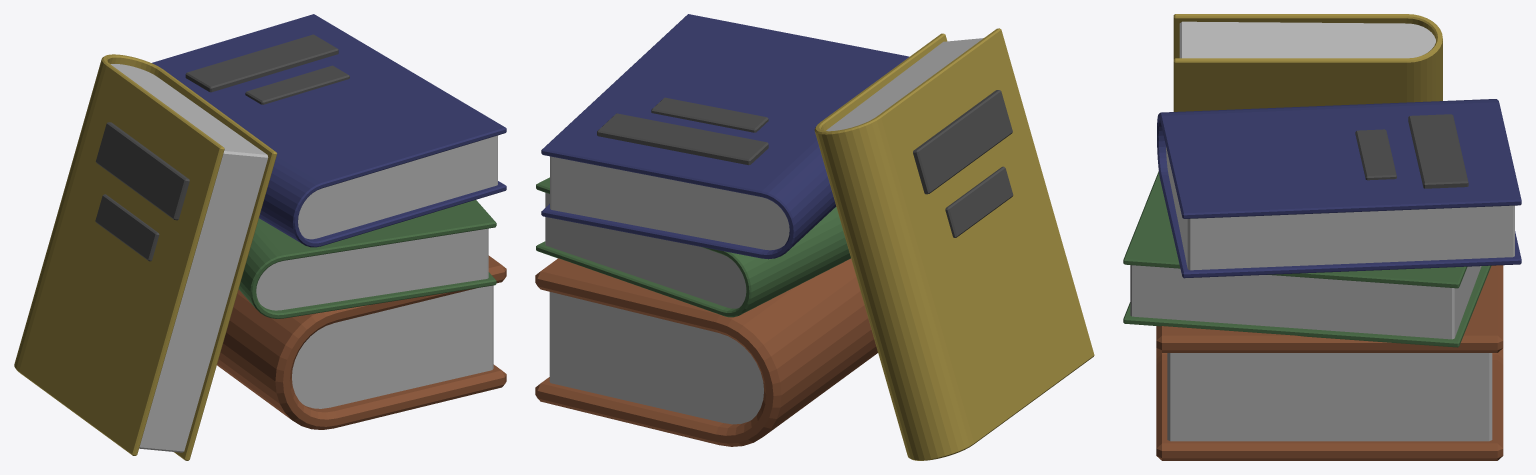
Rendered from BooksMod.glb.
3 views of the same model, side by side, from view 1: azimuth 30°, elevation 25°; view 2: azimuth 150°, elevation 25°; view 3: azimuth 270°, elevation 25° (orthographic). The views are drawn at different scales.
Parts seen in each view (by area): view 1: Cylinder.003, Cylinder.002, Cylinder, Cylinder.001; view 2: Cylinder.003, Cylinder.002, Cylinder, Cylinder.001; view 3: Cylinder.002, Cylinder, Cylinder.001, Cylinder.003.
Part boxes in pixels (x1,y1,x2,y2): Cylinder.003: (14, 54, 277, 460); Cylinder.002: (152, 14, 506, 247); Cylinder: (217, 255, 506, 429); Cylinder.001: (238, 200, 496, 318); Cylinder.003: (814, 28, 1094, 460); Cylinder.002: (541, 14, 909, 259); Cylinder: (535, 258, 877, 446); Cylinder.001: (536, 177, 850, 317); Cylinder.002: (1157, 99, 1521, 278); Cylinder: (1156, 265, 1503, 460); Cylinder.001: (1123, 171, 1491, 347); Cylinder.003: (1173, 14, 1442, 111).
Size of the model in its own units: 6.61 by 4.99 by 5.76.
